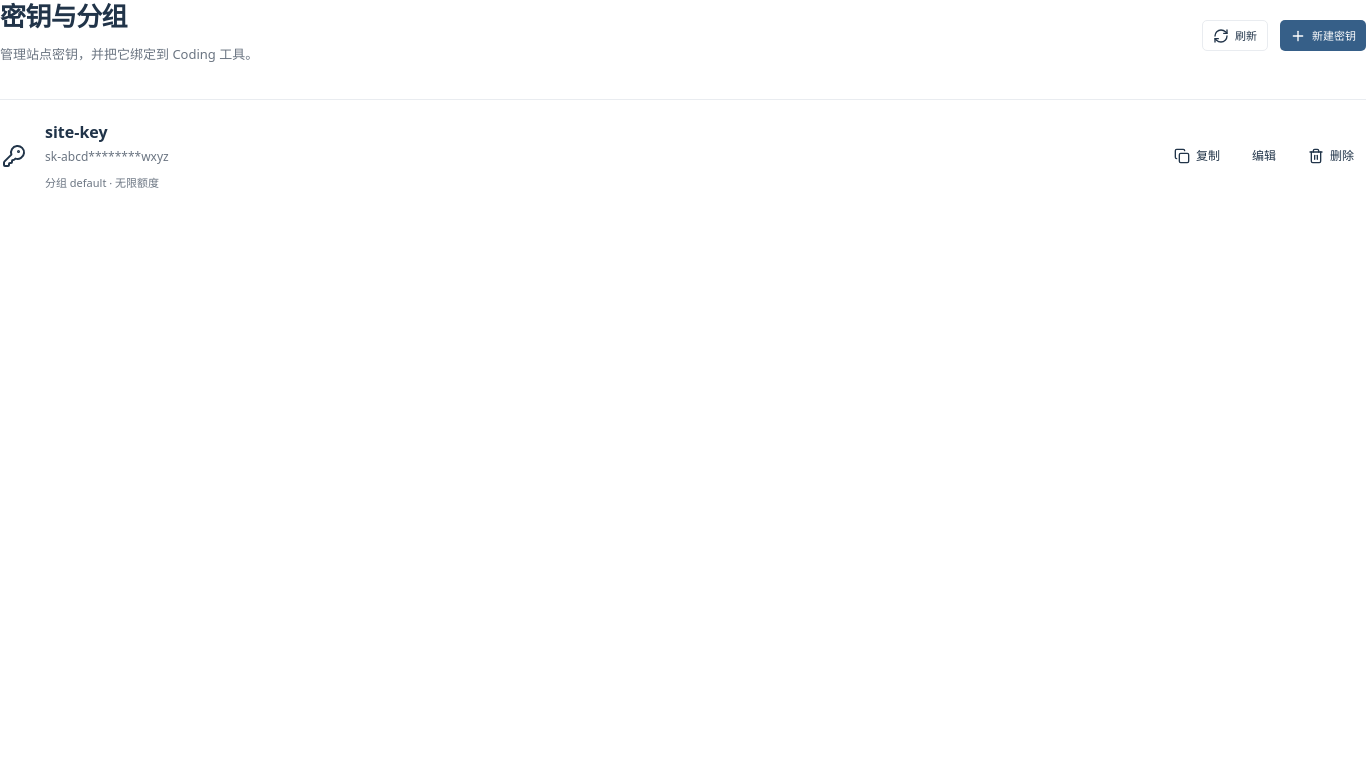
密钥保存失败在编辑弹窗内显示错误，未启用的旧模型限制不被重新启用
This screenshot has width=1366, height=768.
Click the button "编辑".
click(1264, 156)  # box left=1240, top=140, right=1288, bottom=172
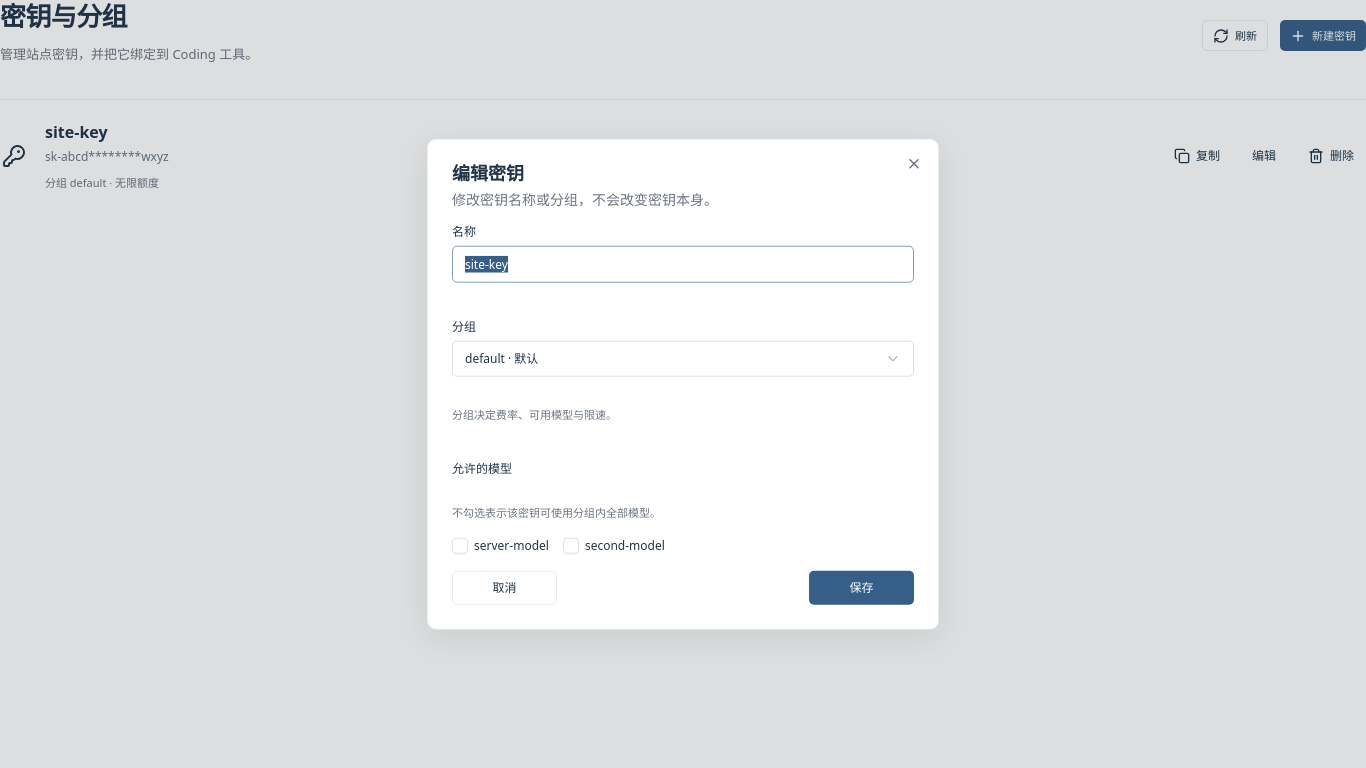
Result: the button "保存" is enabled
Click the button "保存".
click(862, 587)  # box left=809, top=570, right=914, bottom=604
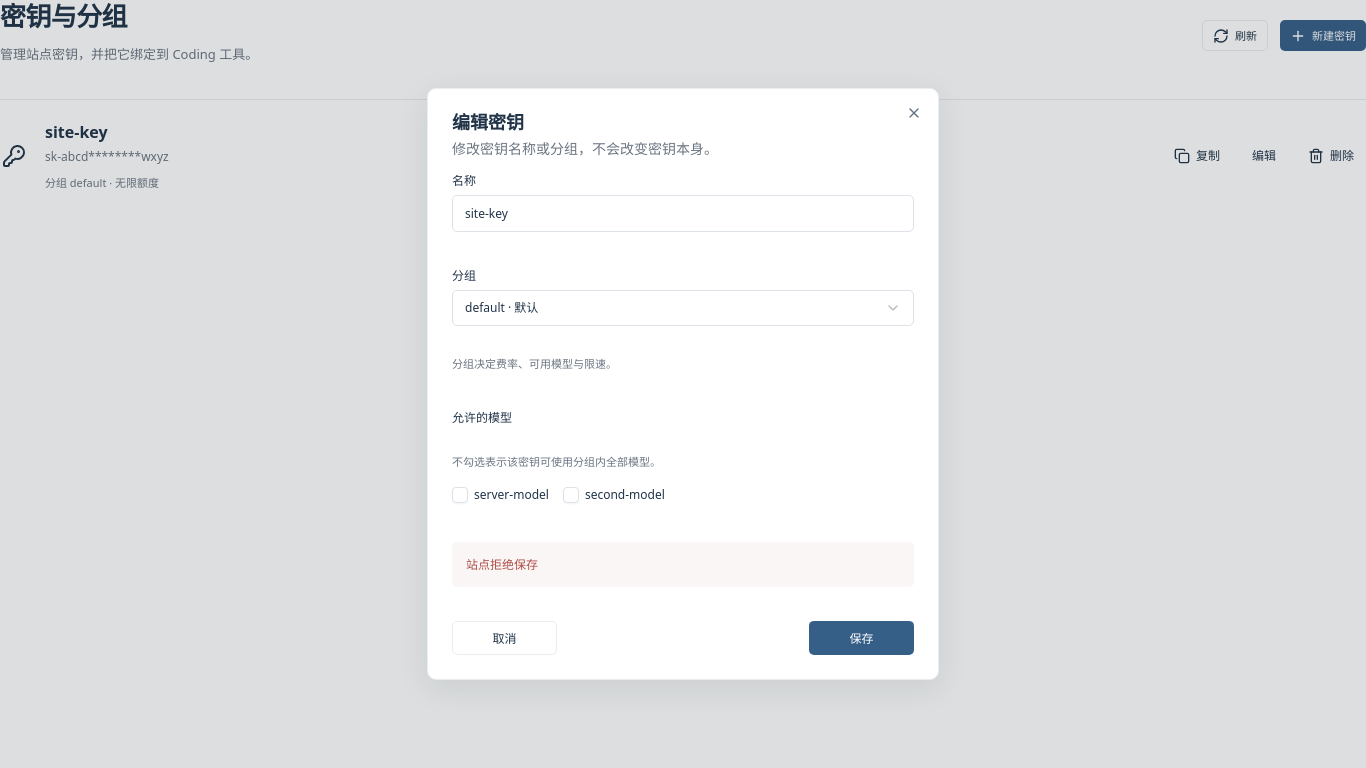
Result: the message reads "站点拒绝保存" at left=466, top=556, right=538, bottom=572
